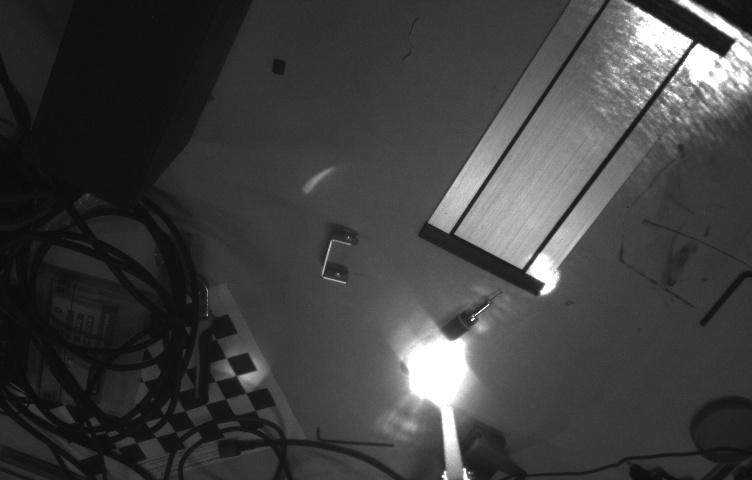Object precision screwdriver - Material rubber - Color black and orange - Pdfnam: (403, 333, 454, 376)
